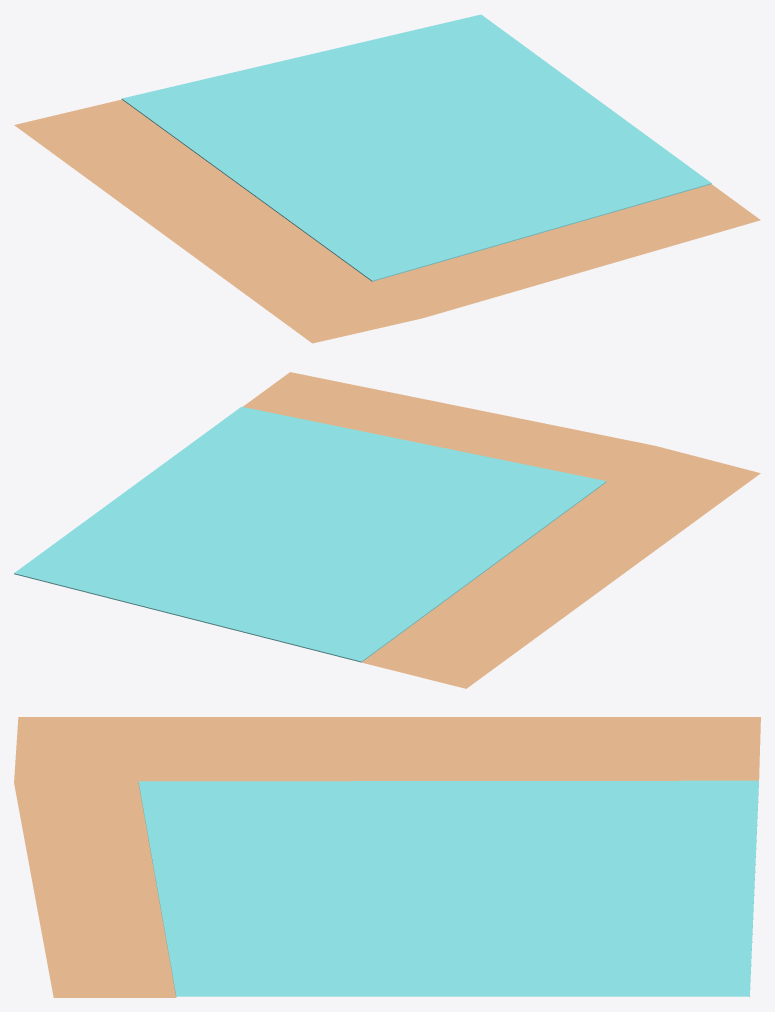
File: sol2.FBX
3 renders of one model, top to bottom at view 1: azimuth 30°, elevation 25°; view 2: azimuth 150°, elevation 25°; view 3: azimuth 270°, elevation 25°, orthographic. The views are drawn at different scales.
Parts seen in each view (by area): view 1: Object001; view 2: Object001; view 3: Object001.
Part boxes in pixels (x1=…): Object001: x1=14, y1=14, x2=760, y2=343; Object001: x1=14, y1=372, x2=760, y2=688; Object001: x1=14, y1=717, x2=760, y2=997.
Size of the model in its own units: 224 by 0.4686 by 252.
